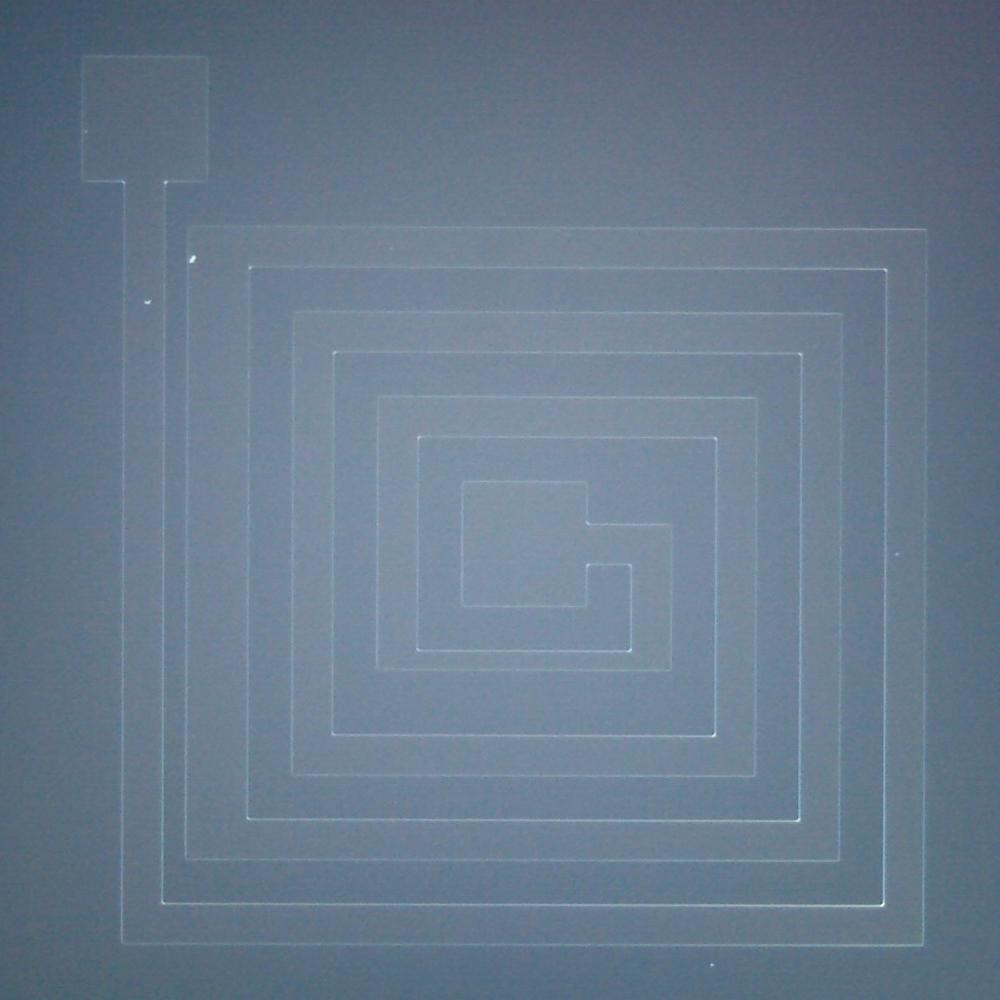dot: (132, 284, 162, 316)
fat circuit: (180, 205, 255, 868)
thin circuit: (363, 640, 686, 684)
